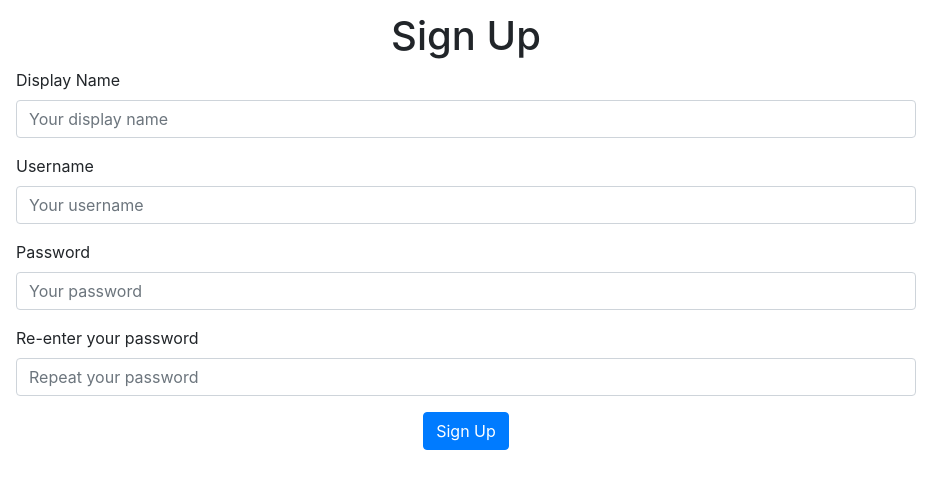
UserSignupPage › Interactions › enables the signup button when password and repeat password have same value
The width and height of the screenshot is (933, 490).
In the field with placeholder "Your display name": (466, 119) [16,100,916,138], type "my-display-name"
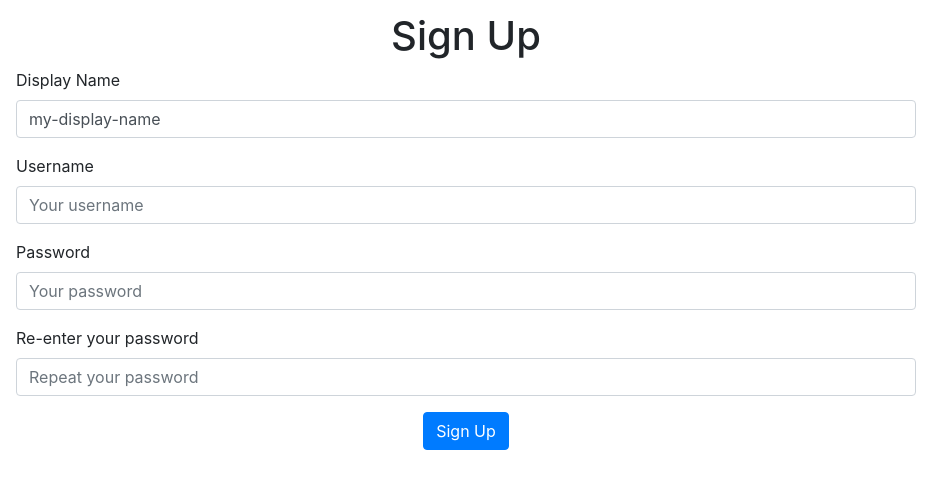
In the field with placeholder "Your username": (466, 205) [16,186,916,224], type "my-user-name"
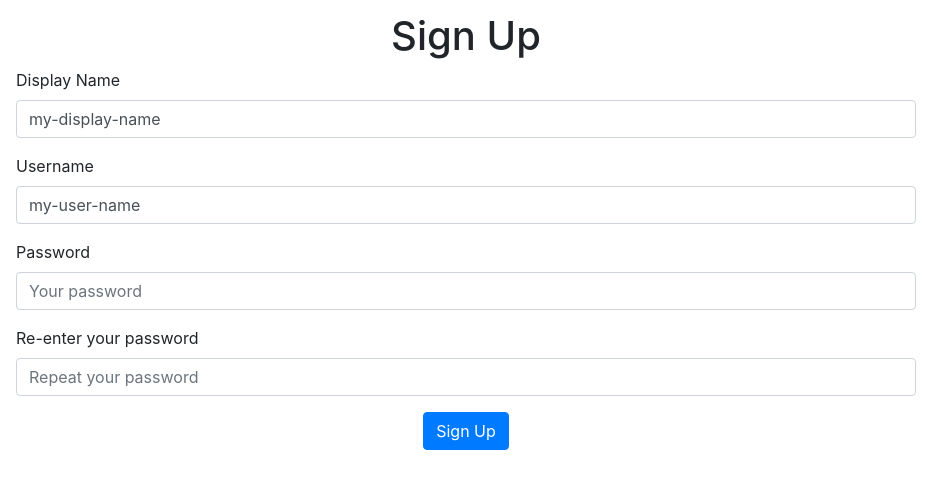
In the password field with placeholder "Your password": (466, 291) [16,272,916,310], type "my-password"
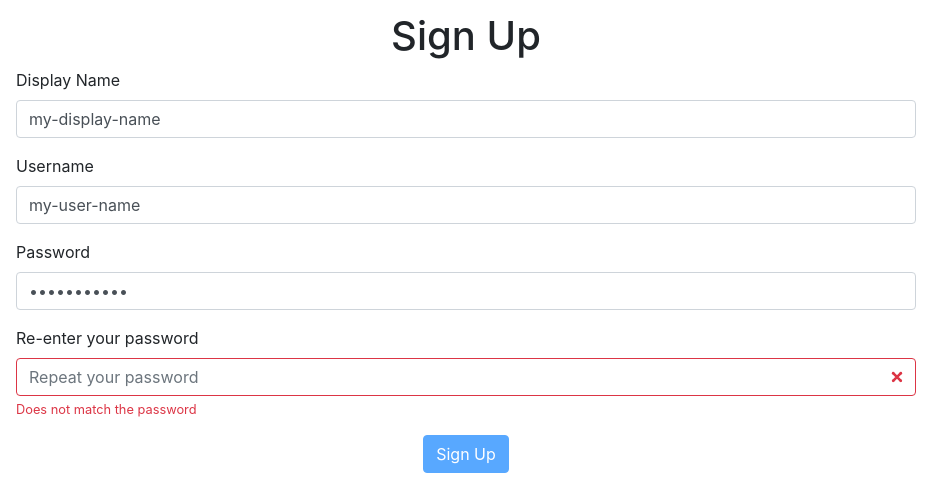
In the password field with placeholder "Repeat your password": (466, 377) [16,358,916,396], type "my-password"
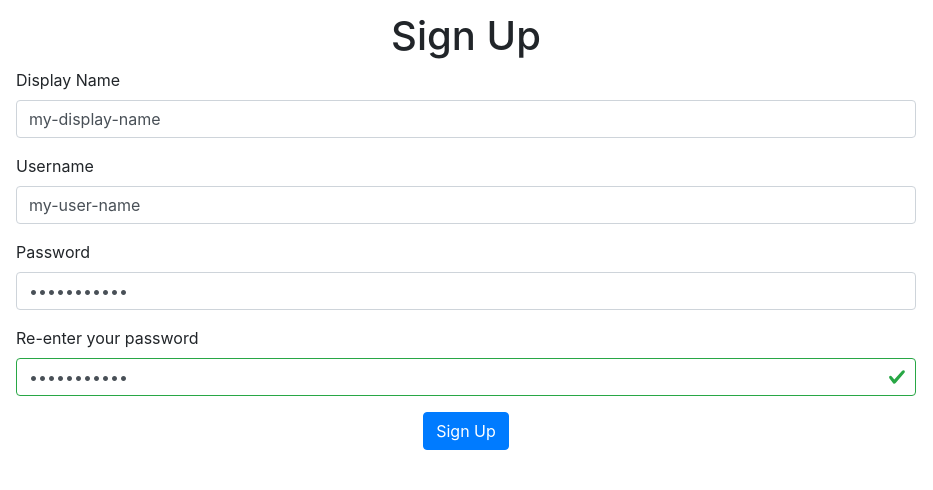
Check: the button "Sign Up" is enabled, box [423,412,509,450]
